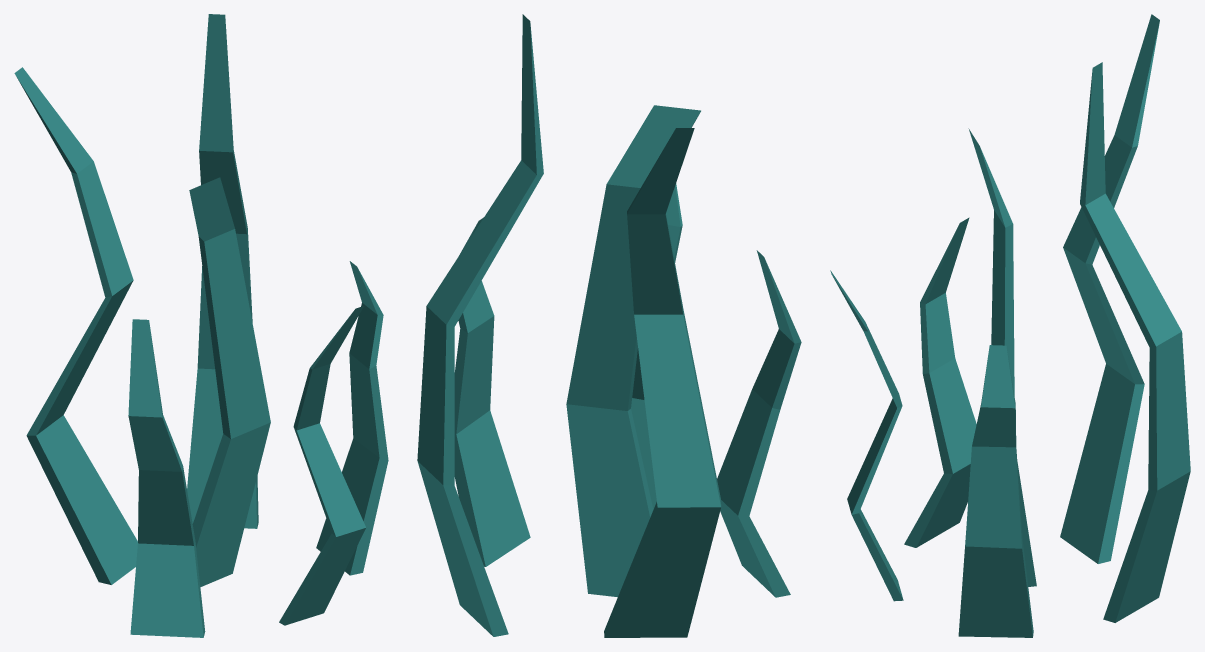
File: Grass_5_Blue.fbx
The picture shows the model from 3 angles, left to right: view 1: azimuth 30°, elevation 25°; view 2: azimuth 150°, elevation 25°; view 3: azimuth 270°, elevation 25°; orthographic projection. The views are drawn at different scales.
Visible parts, largest first — view 1: Grass_5_Blue; view 2: Grass_5_Blue; view 3: Grass_5_Blue.
Boxes of the visible parts, box(x1,y1,x2,y2) form: Grass_5_Blue: box(14, 14, 388, 637); Grass_5_Blue: box(417, 14, 801, 637); Grass_5_Blue: box(830, 14, 1190, 637).
Bounding box in the file's own units: 22.89 × 39.47 × 24.19.
